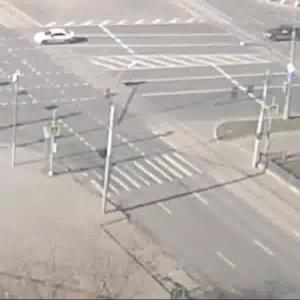car: (37, 29, 79, 49), (263, 25, 300, 42)
